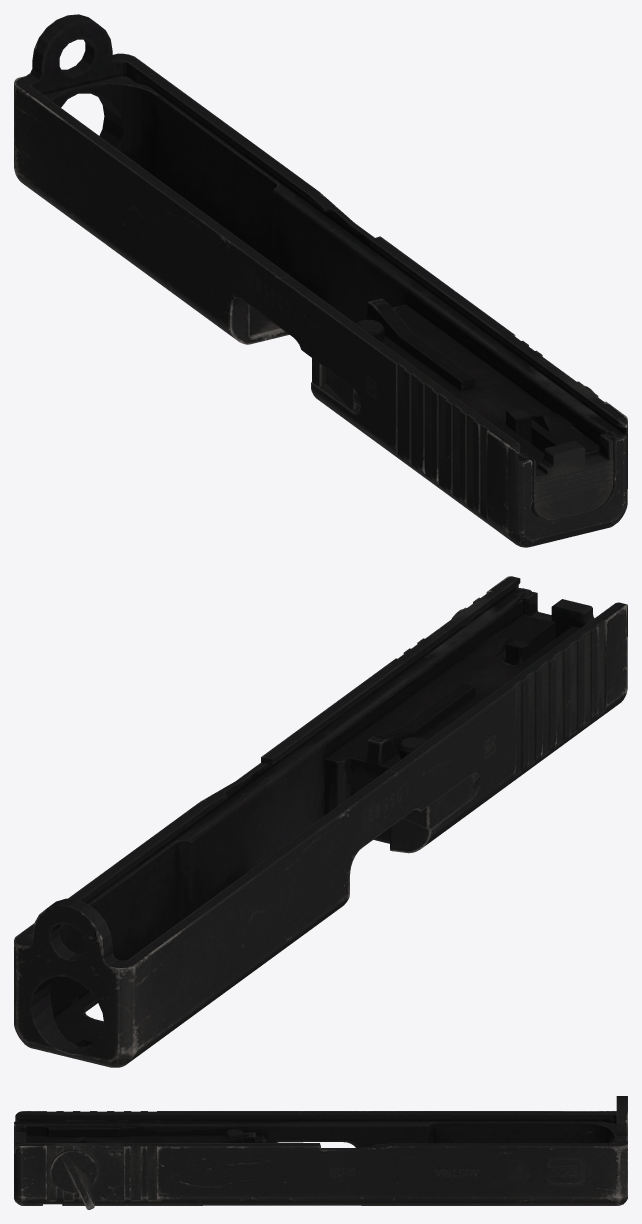
3 views of the same model, one above another, from view 1: azimuth 30°, elevation 25°; view 2: azimuth 150°, elevation 25°; view 3: azimuth 270°, elevation 25° (orthographic). The views are drawn at different scales.
Visible parts, largest first — view 1: TW_5b1faa0f5acfc40dc528aeb5_PZ_Import; view 2: TW_5b1faa0f5acfc40dc528aeb5_PZ_Import; view 3: TW_5b1faa0f5acfc40dc528aeb5_PZ_Import.
Part boxes in pixels (bbox=[...]): TW_5b1faa0f5acfc40dc528aeb5_PZ_Import: bbox=[14, 14, 627, 547]; TW_5b1faa0f5acfc40dc528aeb5_PZ_Import: bbox=[14, 576, 627, 1067]; TW_5b1faa0f5acfc40dc528aeb5_PZ_Import: bbox=[14, 1096, 627, 1209].
Bounding box in the file's own units: 0.0173 × 0.1058 × 0.0181.
1 material, 1 textured.
